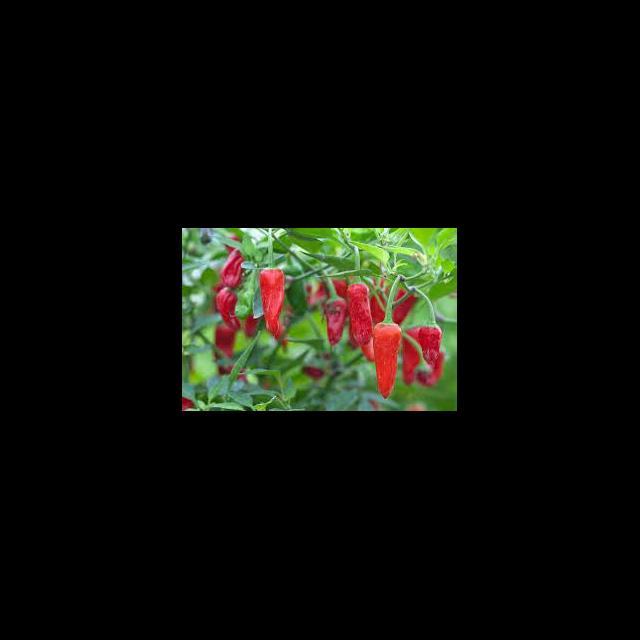chili_pepper: (374, 323, 403, 400), (260, 269, 288, 340), (346, 284, 374, 347), (323, 300, 348, 347), (217, 289, 242, 332), (419, 326, 443, 366), (223, 249, 246, 288)
